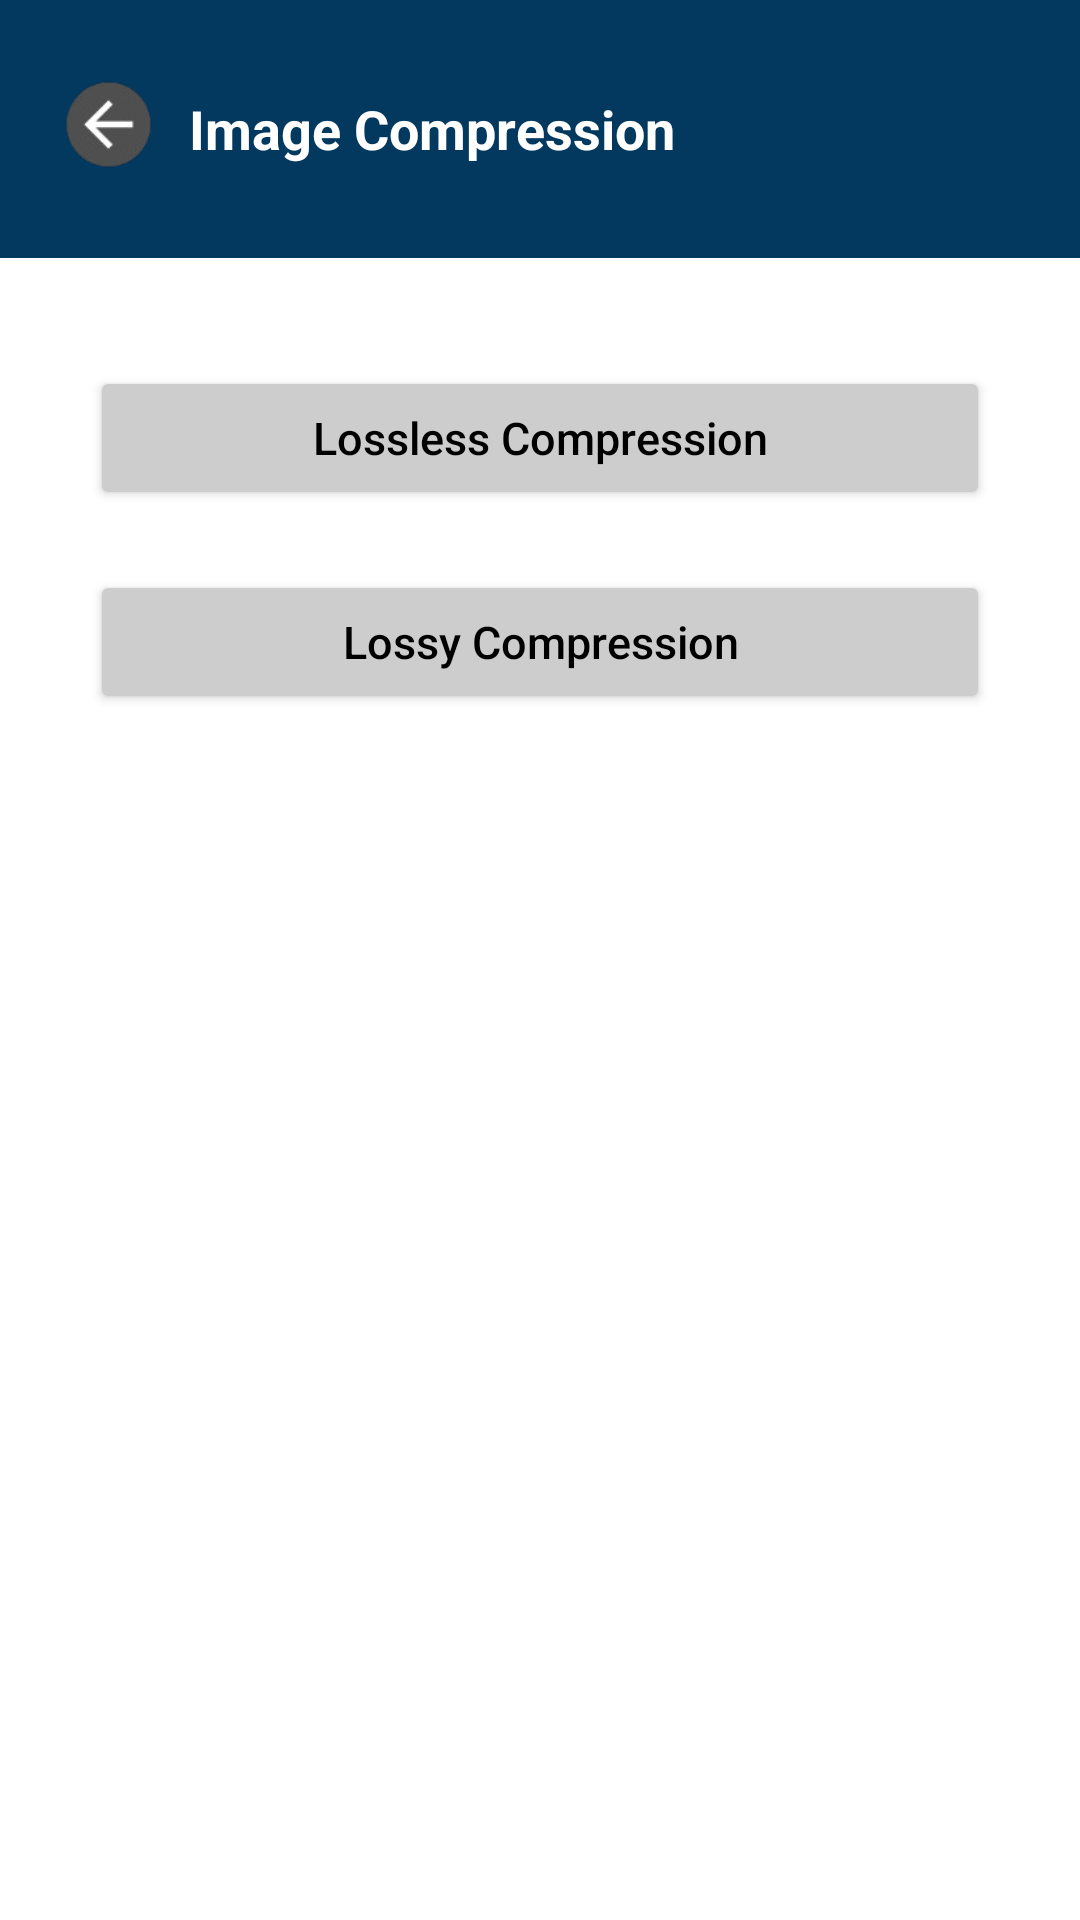

Named icons in this screenshot (1080w x 1920h) and their bounding boxes, {"left": x1, "top": y1, "right": x2, "bottom": y2}:
back: {"left": 66, "top": 82, "right": 151, "bottom": 167}
